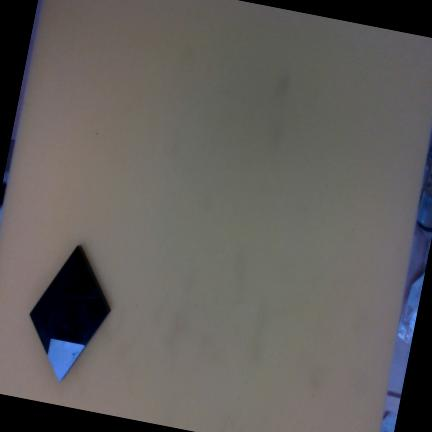tile: (7, 244, 132, 381)
